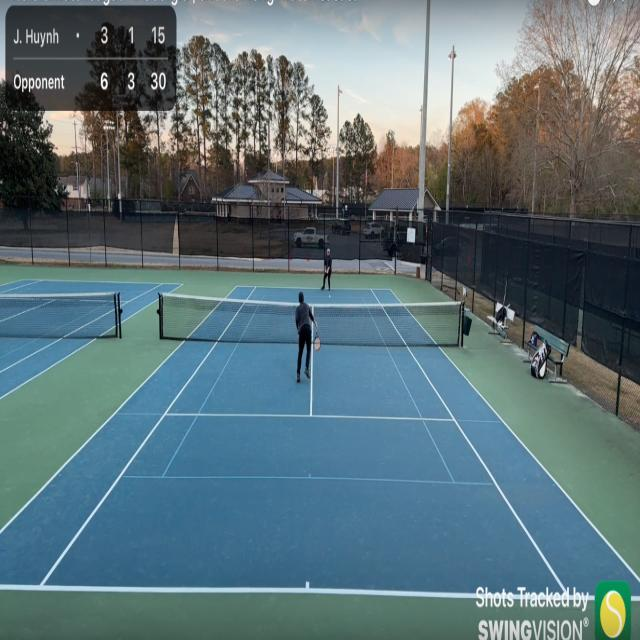ball: (329, 294, 331, 299)
